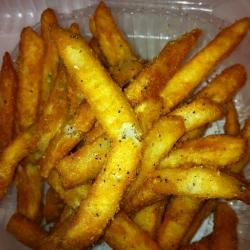fries: (14, 36, 238, 237)
